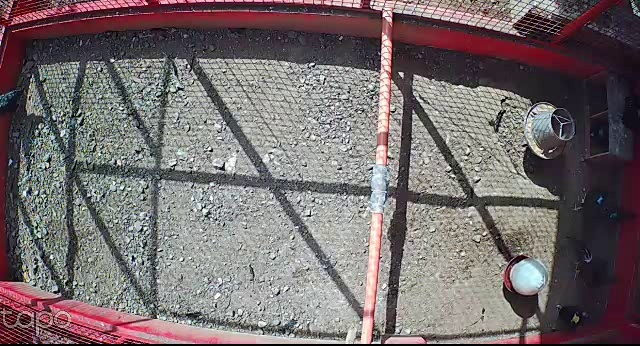Chicken: (567, 183, 637, 228), (548, 302, 593, 337)
Feeder: (521, 100, 581, 164)
Rooster: (563, 235, 624, 292)
Saddle_Color_Blue: (597, 196, 603, 203)
Saddle_Color_Yellow: (571, 313, 579, 323)
